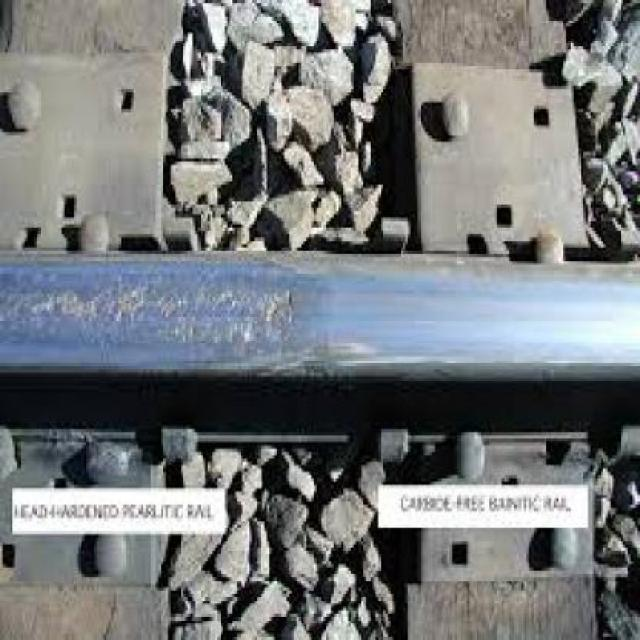defective: (4, 108, 374, 506)
